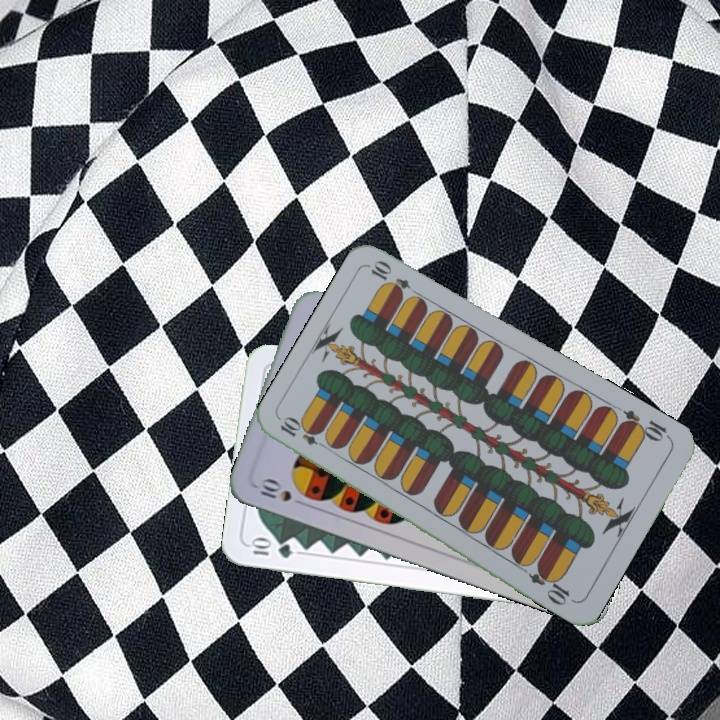E10: (616, 406, 673, 445), (276, 414, 332, 452)
G10: (246, 536, 295, 561)
S10: (252, 475, 309, 509)
